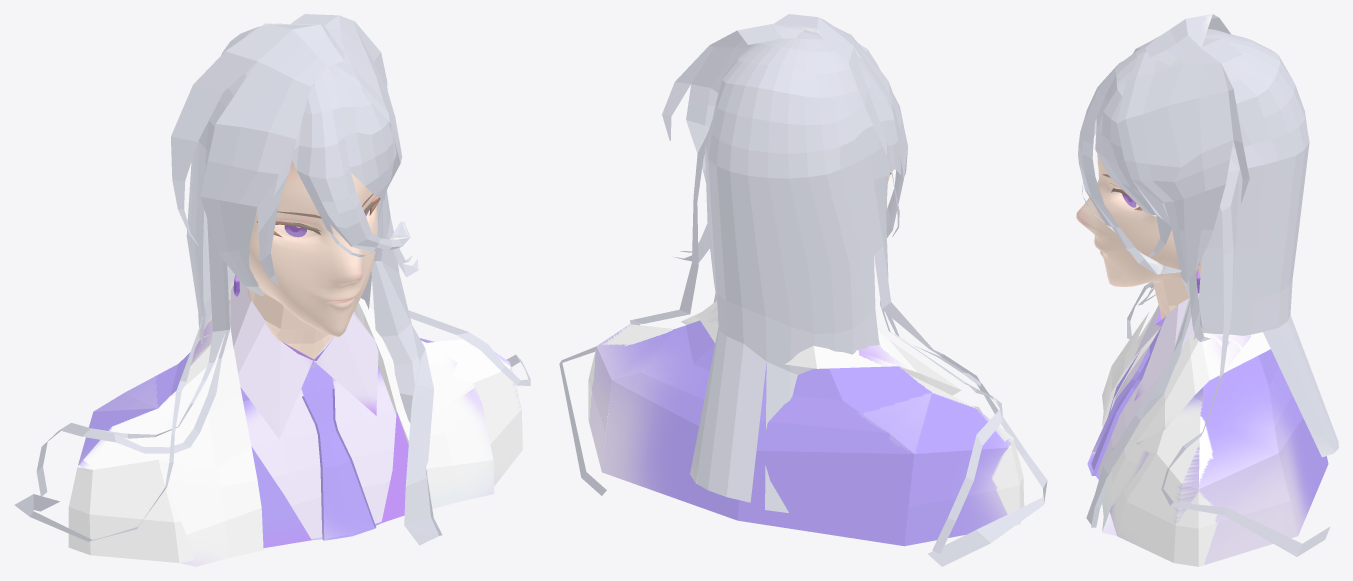
The model's file is character.glb.
3 renders of one model, left to right at view 1: azimuth 30°, elevation 25°; view 2: azimuth 150°, elevation 25°; view 3: azimuth 270°, elevation 25°, orthographic. The views are drawn at different scales.
Visible parts, largest first — view 1: 圆环, 刘海, 左刘海, 脸.001, 圆环.001; view 2: 刘海, 圆环, 左刘海; view 3: 刘海, 圆环, 脸.001, 左刘海, 圆环.001.
Boxes of the visible parts, x1=… form: 圆环: x1=68, y1=280, x2=522, y2=566; 刘海: x1=14, y1=14, x2=530, y2=545; 左刘海: x1=171, y1=23, x2=344, y2=295; 脸.001: x1=249, y1=160, x2=378, y2=337; 圆环.001: x1=248, y1=288, x2=332, y2=359; 刘海: x1=559, y1=23, x2=1047, y2=566; 圆环: x1=588, y1=301, x2=1024, y2=546; 左刘海: x1=773, y1=14, x2=907, y2=237; 刘海: x1=1078, y1=29, x2=1338, y2=556; 圆环: x1=1087, y1=293, x2=1328, y2=566; 脸.001: x1=1076, y1=154, x2=1201, y2=286; 左刘海: x1=1133, y1=14, x2=1230, y2=65; 圆环.001: x1=1153, y1=277, x2=1189, y2=319.
Bounding box in the file's own units: 5.18 × 4.92 × 2.52.
8 materials, 8 textured.
